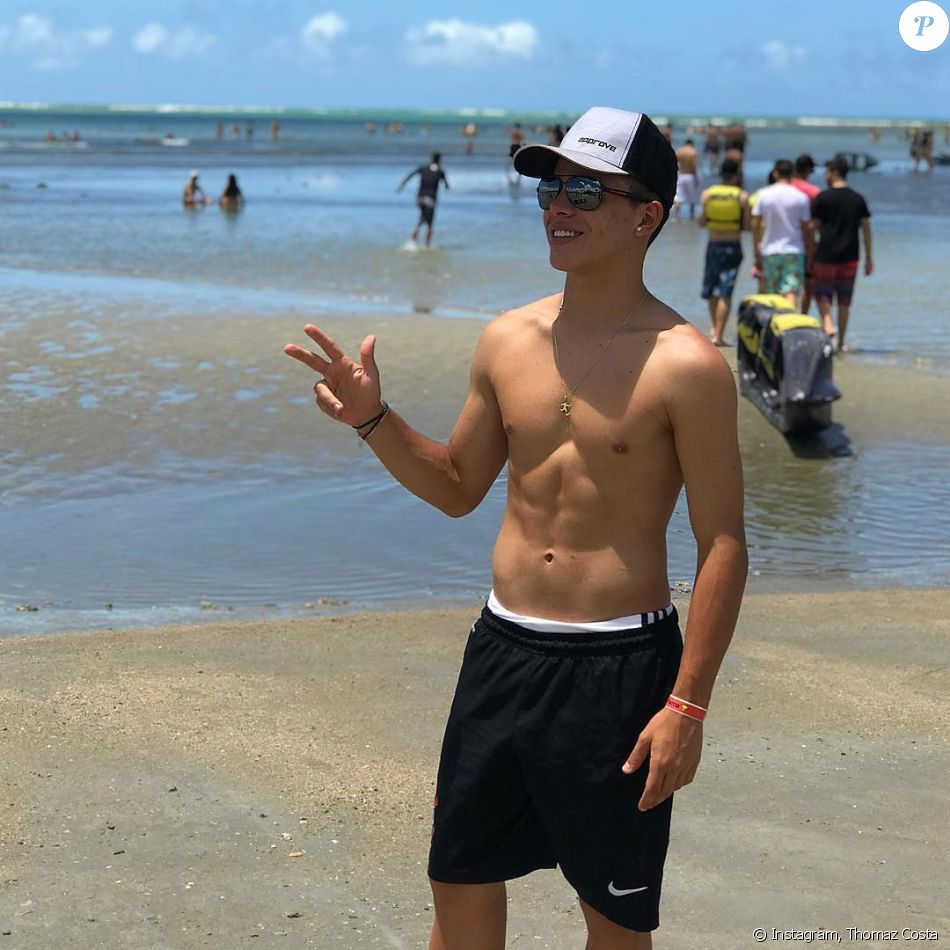Humano: (472, 109, 736, 950), (810, 158, 879, 350), (702, 161, 751, 346), (392, 143, 457, 254), (758, 157, 804, 298), (674, 138, 699, 219)
